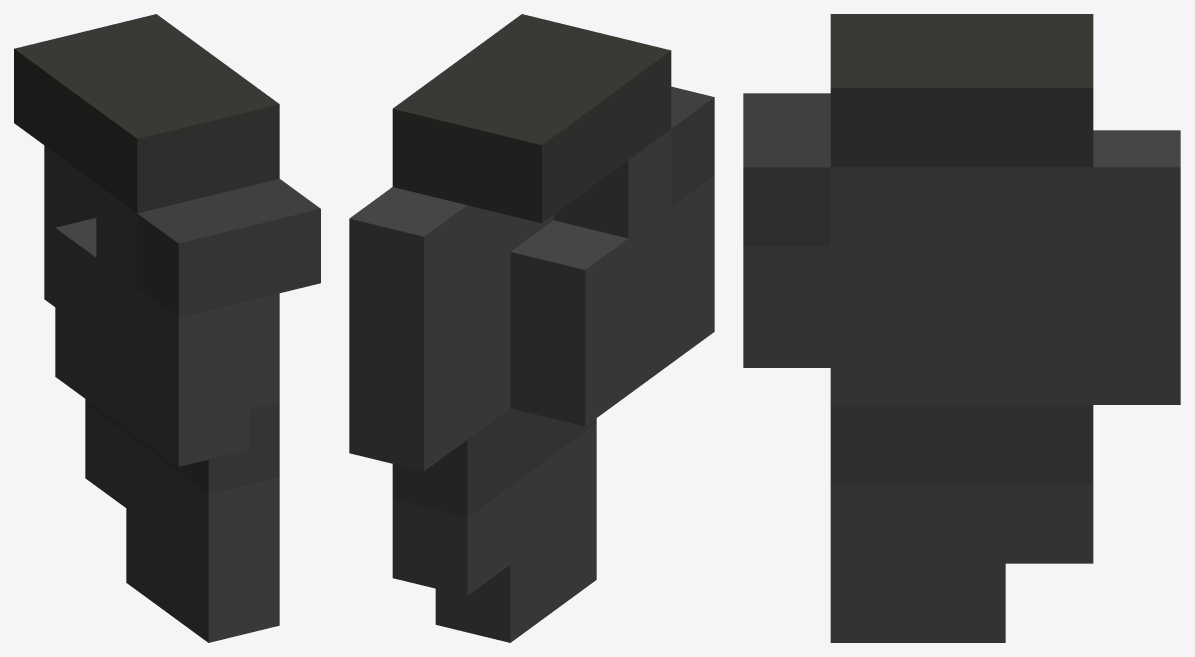
File: Blonde-7.obj
The picture shows the model from 3 angles, left to right: view 1: azimuth 30°, elevation 25°; view 2: azimuth 150°, elevation 25°; view 3: azimuth 270°, elevation 25°; orthographic projection. The views are drawn at different scales.
Bounding box in the file's own units: 0.2 × 0.7 × 0.5.
1 material, 1 textured.
